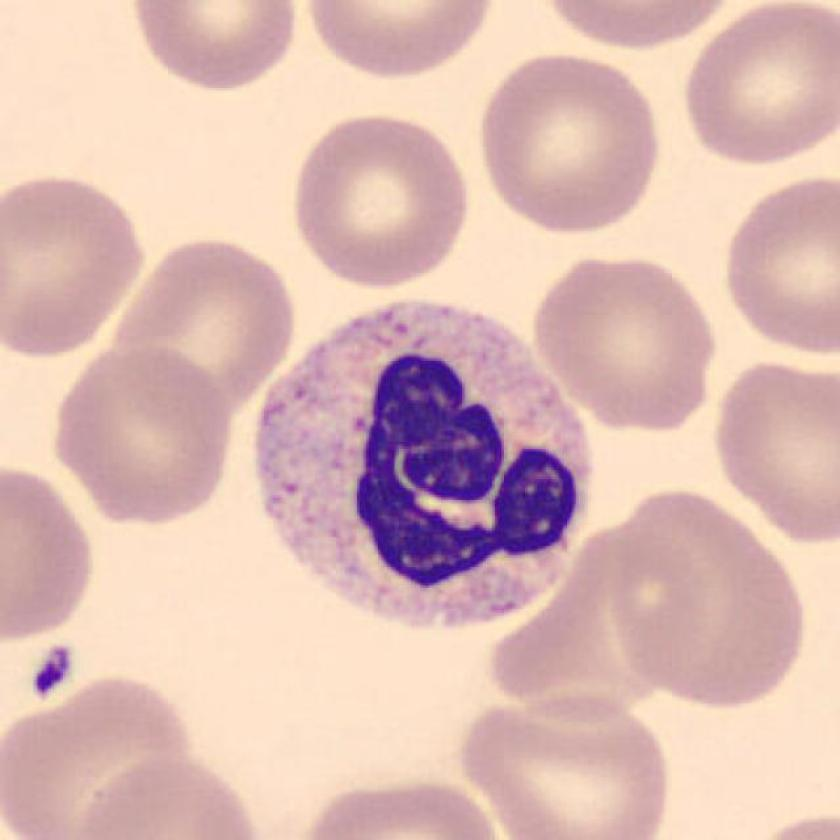neutrophil: (257, 303, 590, 627)
